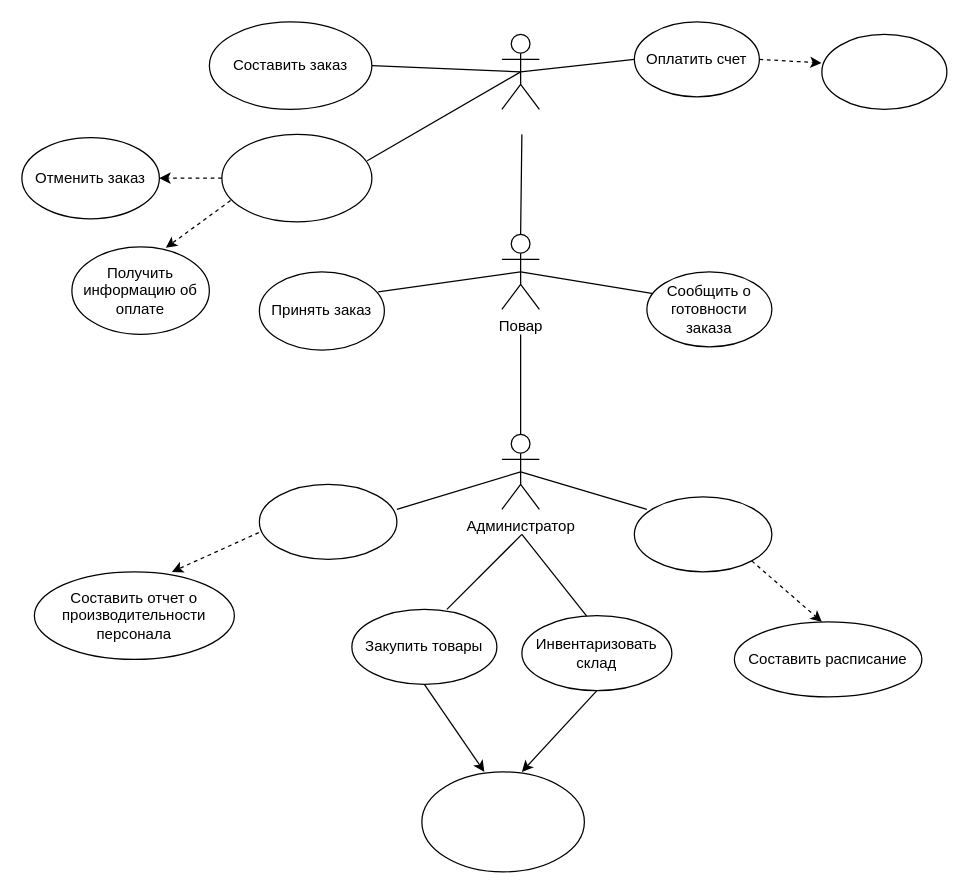
The diagram is 969 pixels wide and 894 high, and some of its shapes have lost their labels. Here are the shapes that lost their labels. From the top down, the box of each, then its label:
(501, 33, 539, 109): Клиент
(821, 33, 947, 109): Оставить отзыв
(221, 133, 372, 222): Разместить заказ
(258, 483, 397, 559): Составить отчет
(633, 496, 772, 572): Управление персоналом
(421, 771, 584, 872): Управление поставками
